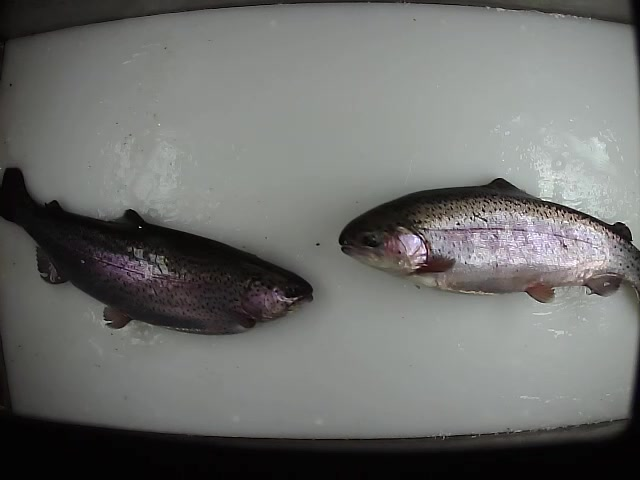fish: (1, 166, 314, 339), (338, 176, 640, 309)
